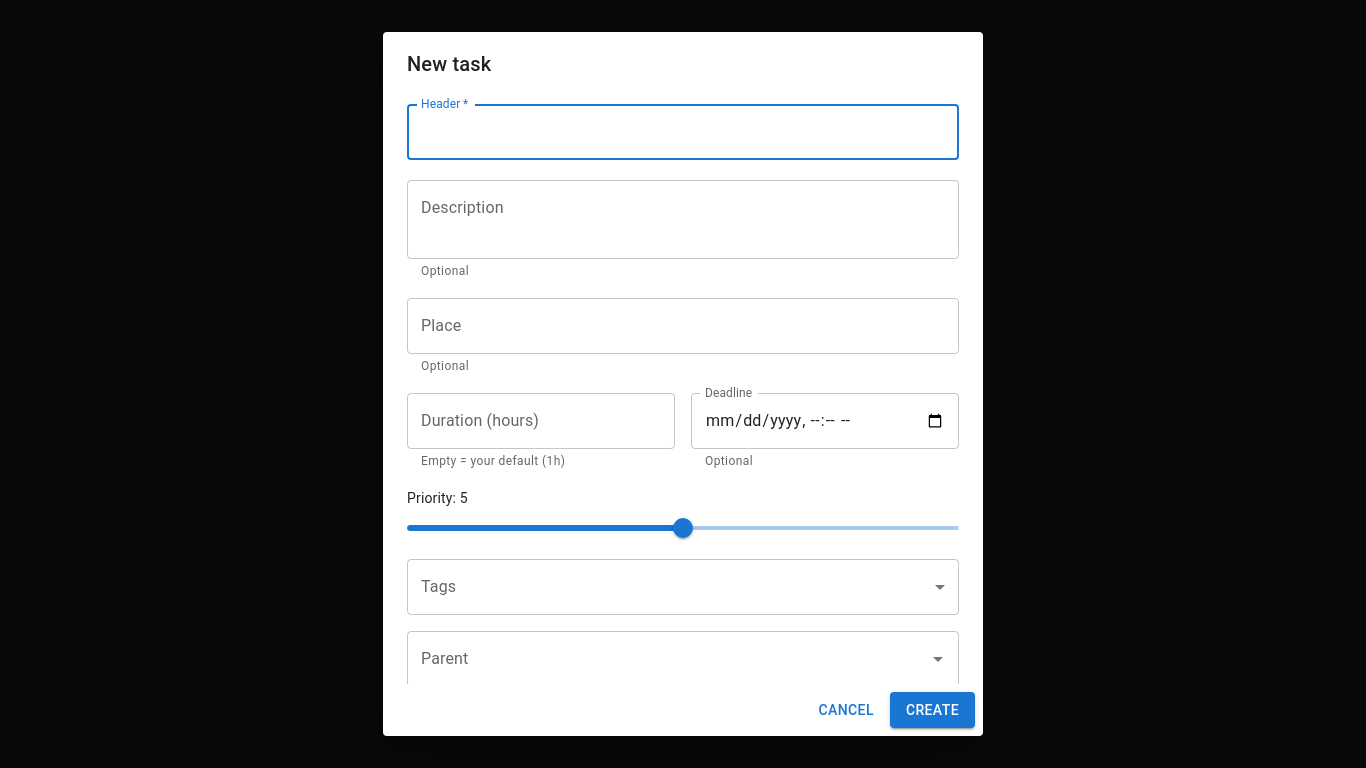
Test case: TaskFormDialog validation › clears an error live once the input is fixed
Click the button "Create" at [932, 710], box [890,692,975,728]
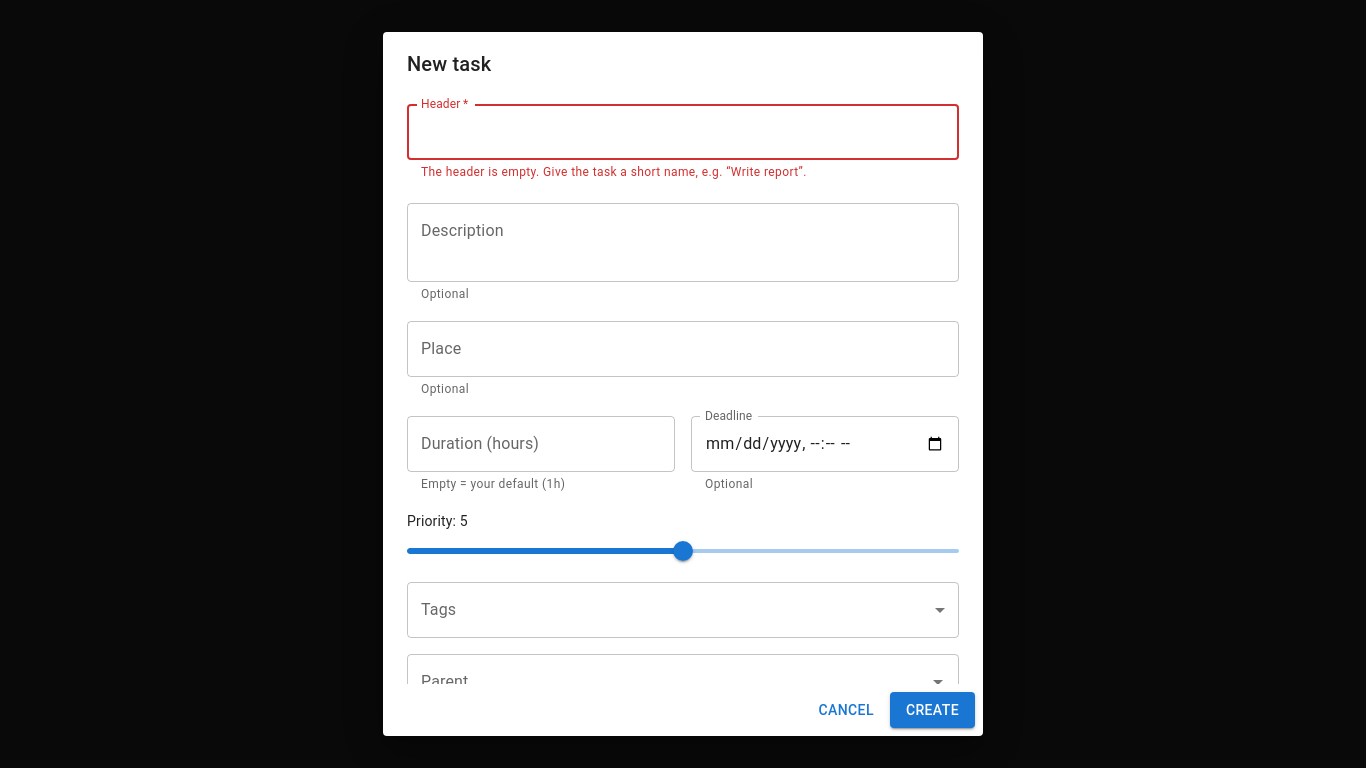
Result: the text "header is empty" is shown at [421,165,807,179]
Type "Now it has a name" into the field labelled "Header *" at [683, 132], box [407,104,959,160]
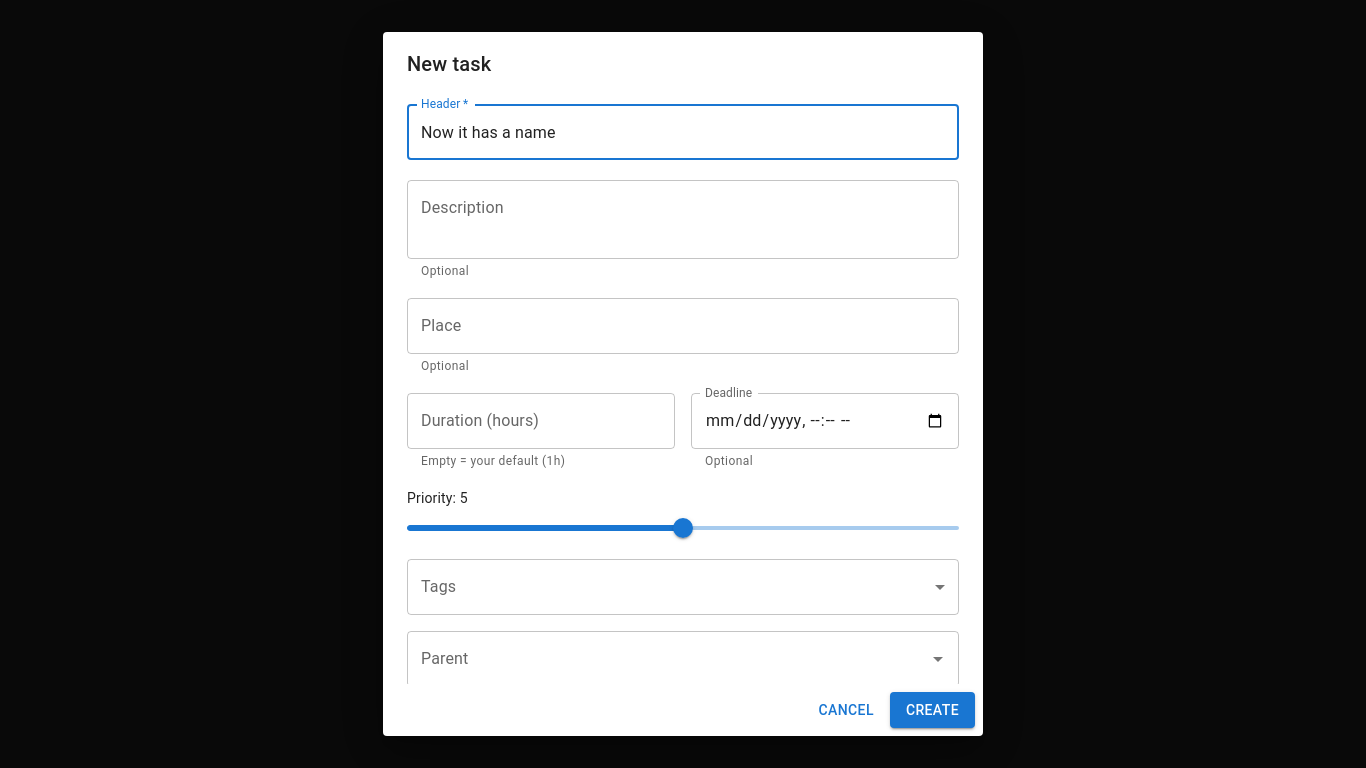
Result: the text "header is empty" is gone
